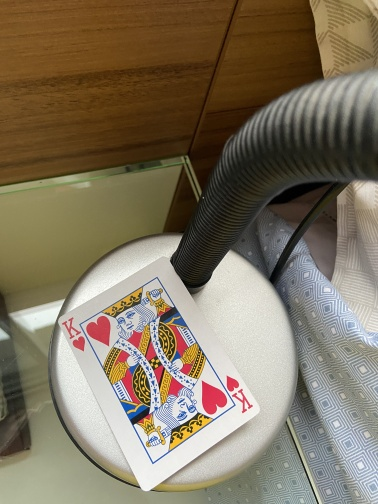king: (56, 255, 262, 494)
